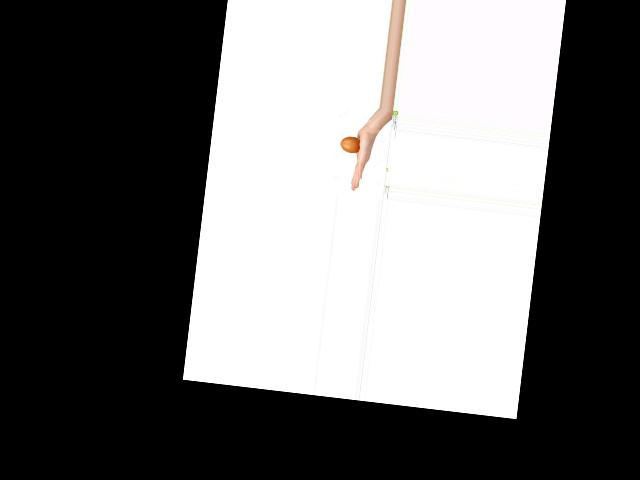egg: (340, 136, 361, 154)
